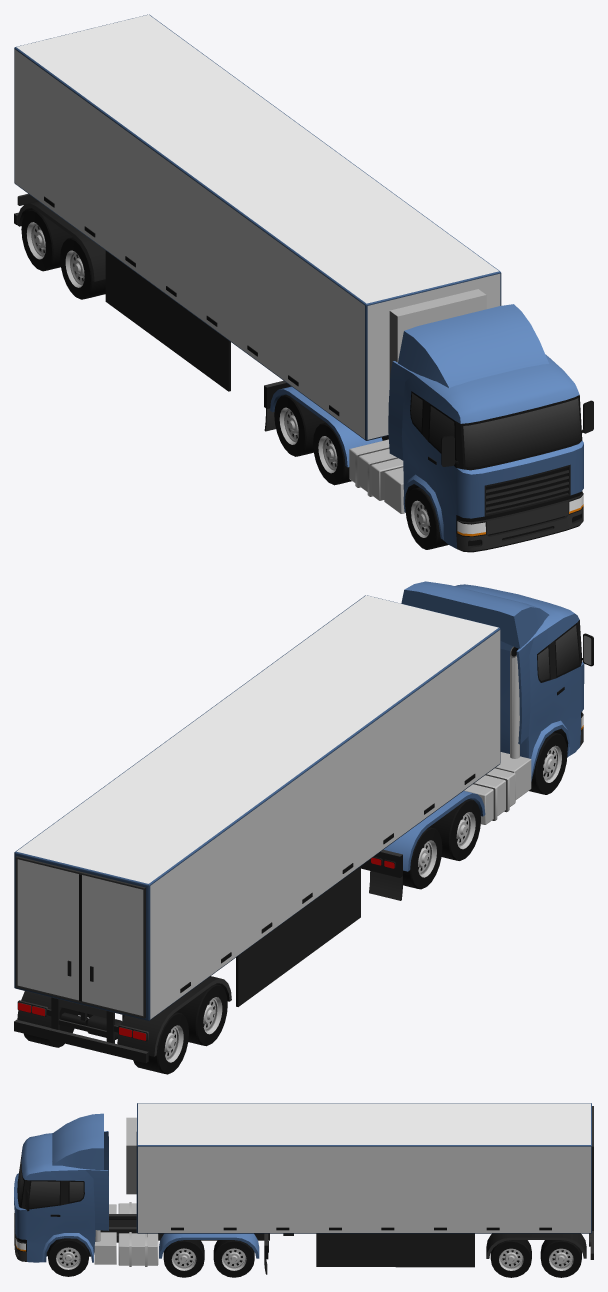
The model's file is Container Truck.fbx.
3 views of the same model, one above another, from view 1: azimuth 30°, elevation 25°; view 2: azimuth 150°, elevation 25°; view 3: azimuth 270°, elevation 25° (orthographic). The views are drawn at different scales.
Parts seen in each view (by area): view 1: Container_Truck_Trailer, Conatiner_Truck_Body, F_R (×2), B_R, B_R_2, B_R_1; view 2: Container_Truck_Trailer, Conatiner_Truck_Body, F_R (×2), B_R_1, B_R, B_R_2; view 3: Container_Truck_Trailer, Conatiner_Truck_Body, F_L (×2), B_L, B_L_1, B_L_2.
Part boxes in pixels (box(x1,y1,x2,y2)): Container_Truck_Trailer: box(14, 14, 501, 440); Conatiner_Truck_Body: box(264, 304, 593, 552); F_R (×2): box(60, 237, 448, 549); B_R: box(21, 209, 72, 271); B_R_2: box(274, 394, 325, 456); B_R_1: box(313, 422, 351, 485); Container_Truck_Trailer: box(14, 595, 500, 1063); Conatiner_Truck_Body: box(361, 581, 593, 900); F_R (×2): box(176, 732, 567, 1046); B_R_1: box(430, 799, 480, 860); B_R: box(133, 1012, 188, 1074); B_R_2: box(403, 827, 442, 889); Container_Truck_Trailer: box(126, 1103, 593, 1267); Conatiner_Truck_Body: box(14, 1113, 269, 1274); F_L (×2): box(48, 1238, 531, 1277); B_L: box(540, 1240, 581, 1277); B_L_1: box(163, 1240, 204, 1277); B_L_2: box(213, 1240, 254, 1277).
Bounding box in the file's own units: 266 × 343 × 1361.
